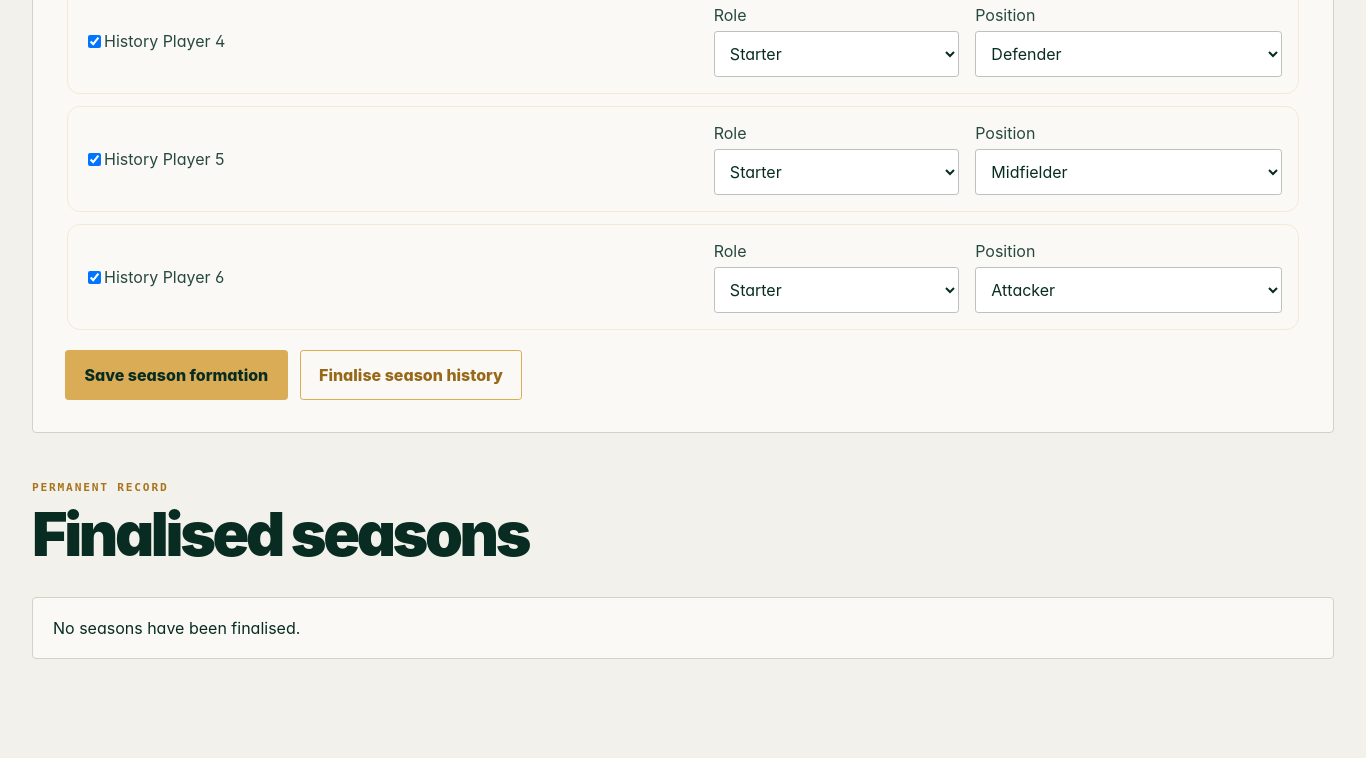
Test case: club history › finalises an eligible season from the administrator route
The width and height of the screenshot is (1366, 758).
(page scrolled)
Click the button "Save season formation". click: click(176, 375)
box: [65,350,288,400]
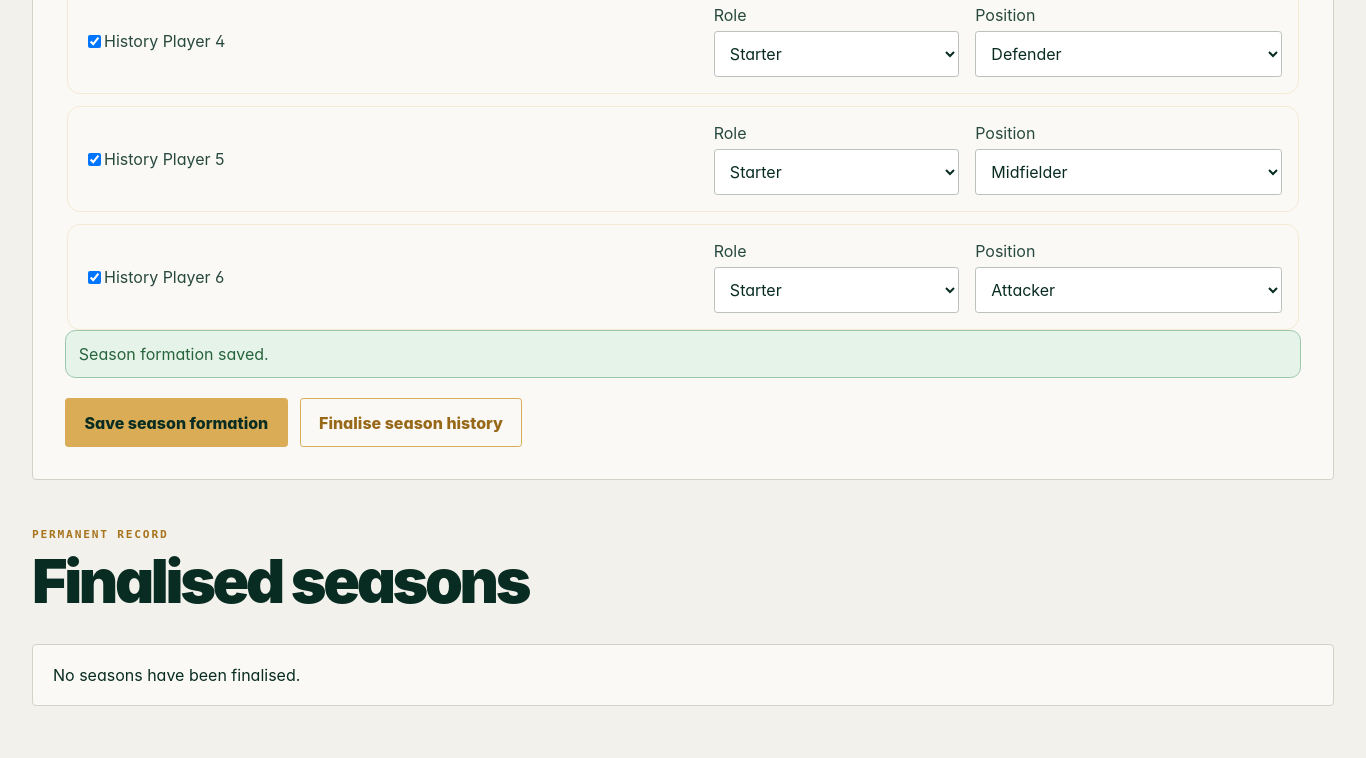
Expected: the text "Season formation saved." is shown, [65,330,1301,378]
Click the button "Finalise season history". click: click(411, 422)
box: [300,398,522,447]
(page scrolled)
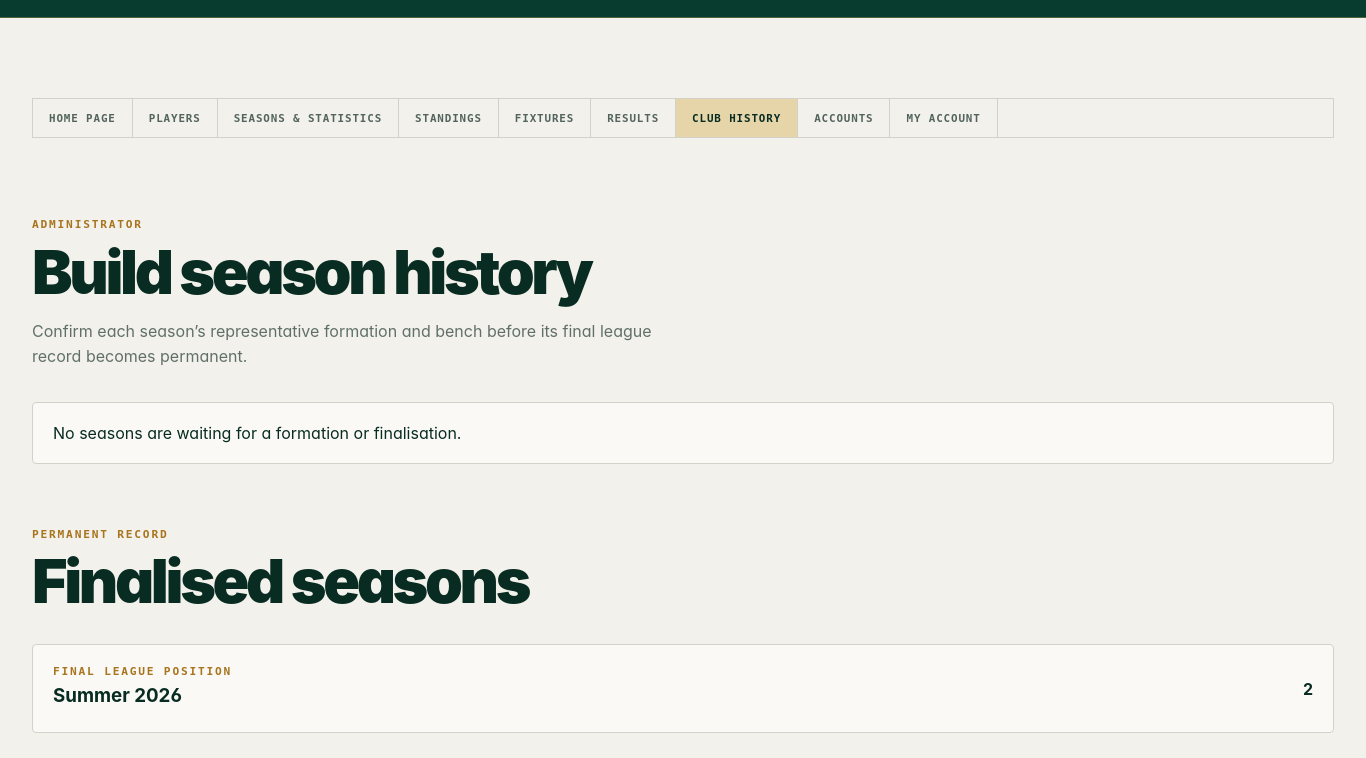
Expected: the heading "Summer 2026" is shown, [53,684,182,706]
Expected: the text "No seasons are waiting for a formation or finalisation." is shown, [32,402,1334,464]
